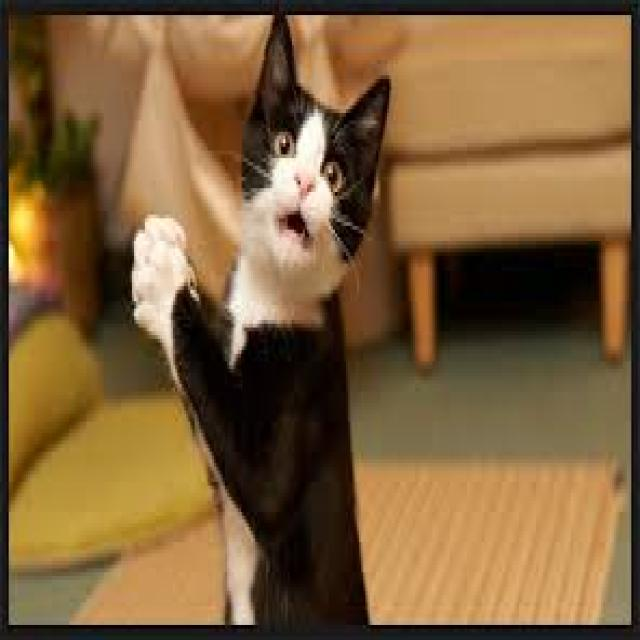cat: (123, 14, 396, 630)
